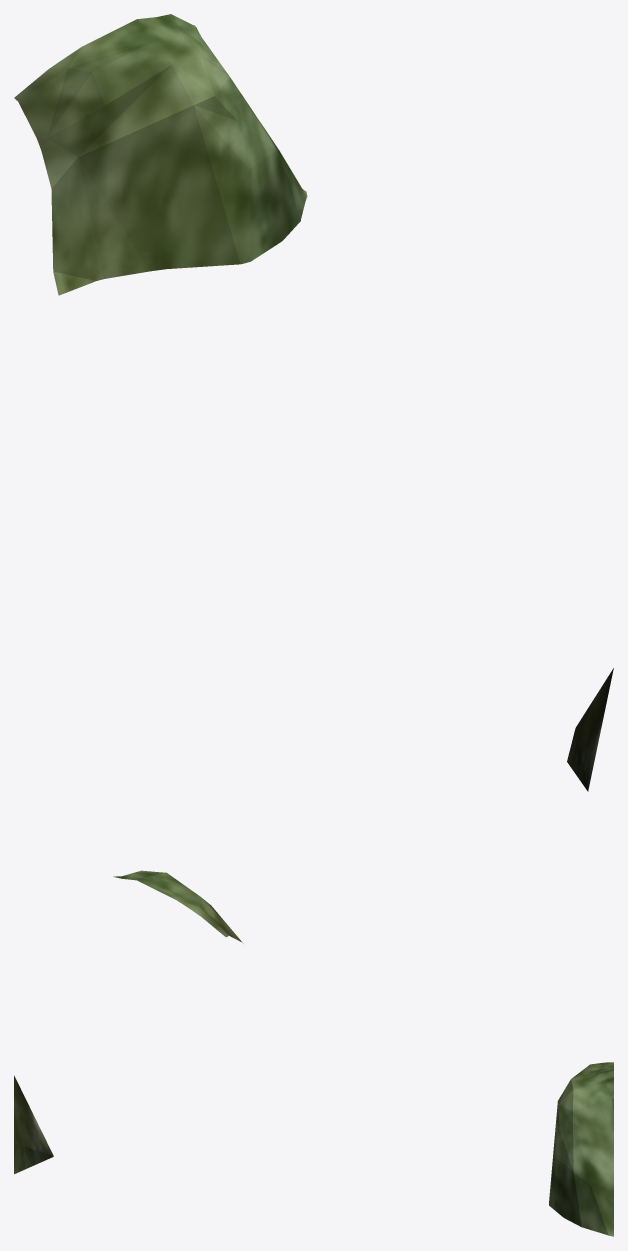
3 views of the same model, one above another, from view 1: azimuth 30°, elevation 25°; view 2: azimuth 150°, elevation 25°; view 3: azimuth 270°, elevation 25° (orthographic). The views are drawn at different scales.
Bounding box in the file's own units: 0.9308 × 0.6505 × 2.95.
Materials: 1 (1 with a texture image).
